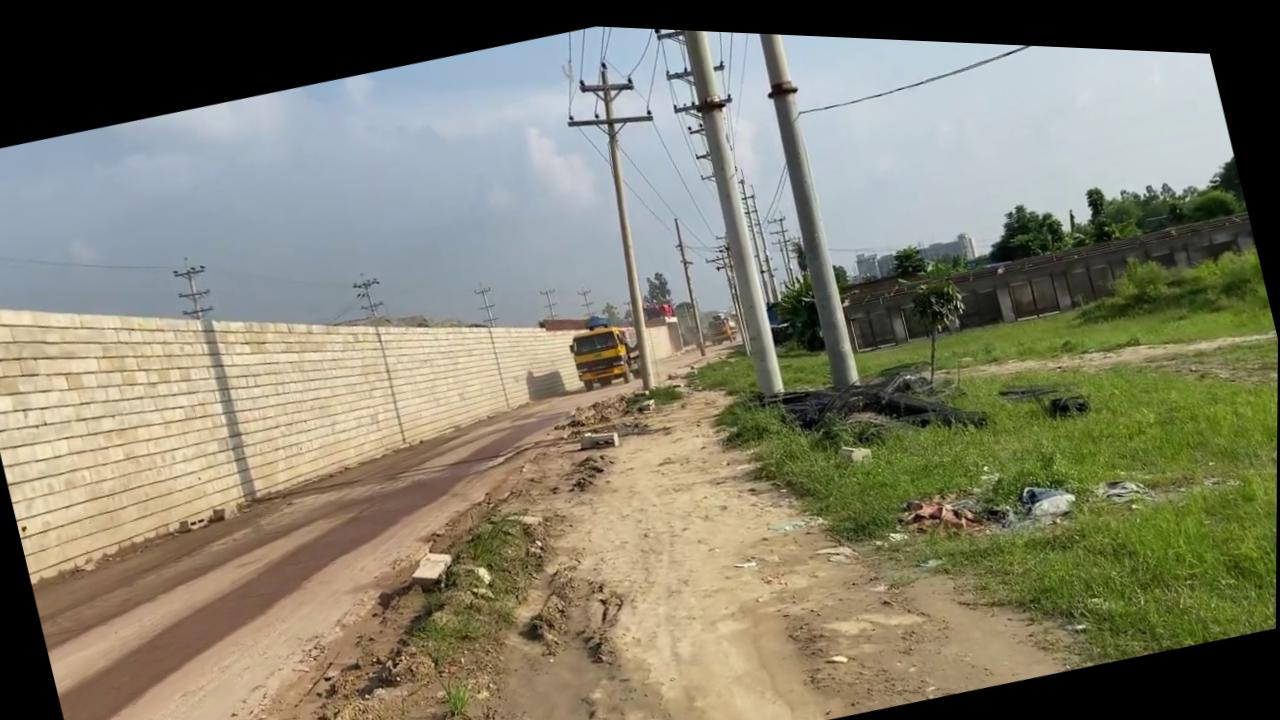Garbage: (756, 332, 991, 473)
Muddy road: (8, 240, 1093, 720)
Obstacle: (406, 541, 459, 592), (577, 419, 621, 449)
Pole: (664, 23, 794, 393), (737, 26, 869, 383)
Tree: (562, 299, 645, 390), (703, 303, 739, 341), (642, 288, 676, 318)
Upstairs: (0, 147, 673, 607)
